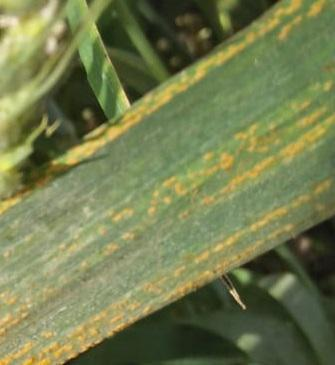Wheat: (88, 73, 325, 265)
